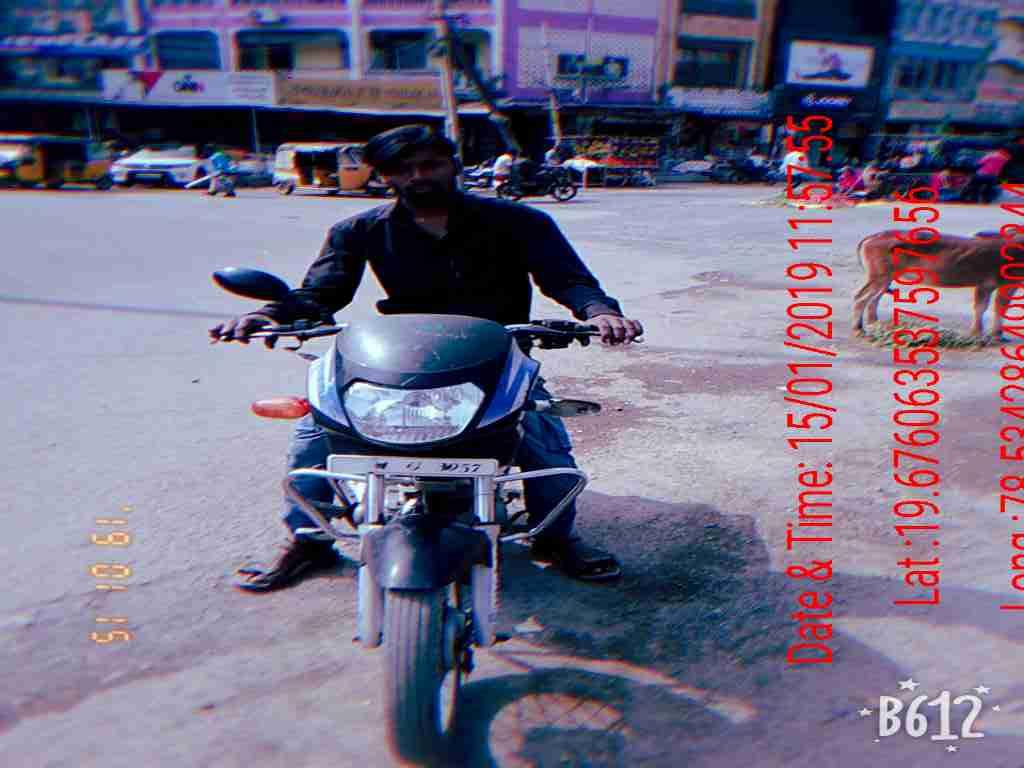plate: (320, 447, 506, 484)
